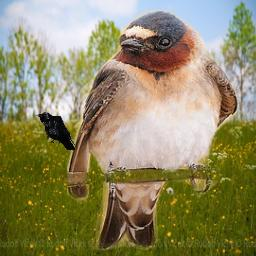Crow: (36, 112, 76, 151)
Swallow: (67, 9, 239, 250)
